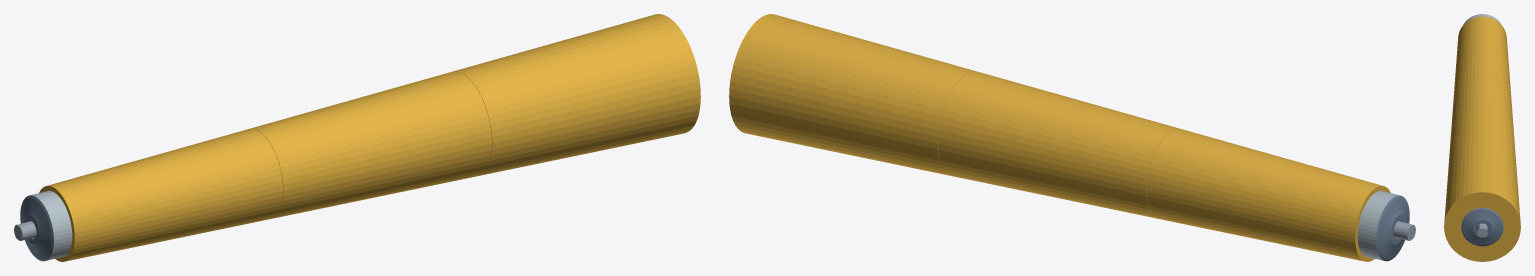
The model's file is rodillo_conico.glb.
3 views of the same model, side by side, from view 1: azimuth 30°, elevation 25°; view 2: azimuth 150°, elevation 25°; view 3: azimuth 270°, elevation 25° (orthographic). The views are drawn at different scales.
Visible parts, largest first — view 1: CÓNICO · Camisa cónica 3/3 Ø76.86→Ø87.49 × 169 (pared 4, bar, CÓNICO · Camisa cónica 2/3 Ø66.23→Ø76.86 × 169 (pared 4, bar, CÓNICO · Camisa cónica 1/3 Ø55.6→Ø66.23 × 169 (pared 4, barr, CÓNICO · Tapa portarodamiento Ø44/Ø32 × 14.5 (cónico, izq), CÓNICO · Tubo SCH40 NPS 1-1/2 pulg Ø48.26×3.68 × 522 (cónico; view 2: CÓNICO · Camisa cónica 3/3 Ø76.86→Ø87.49 × 169 (pared 4, bar, CÓNICO · Camisa cónica 2/3 Ø66.23→Ø76.86 × 169 (pared 4, bar, CÓNICO · Camisa cónica 1/3 Ø55.6→Ø66.23 × 169 (pared 4, barr, CÓNICO · Tapa portarodamiento Ø44/Ø32 × 14.5 (cónico, izq), CÓNICO · Tubo SCH40 NPS 1-1/2 pulg Ø48.26×3.68 × 522 (cónico; view 3: CÓNICO · Camisa cónica 3/3 Ø76.86→Ø87.49 × 169 (pared 4, bar, CÓNICO · Camisa cónica 2/3 Ø66.23→Ø76.86 × 169 (pared 4, bar, CÓNICO · Camisa cónica 1/3 Ø55.6→Ø66.23 × 169 (pared 4, barr, CÓNICO · Tapa portarodamiento Ø44/Ø32 × 14.5 (cónico, der), CÓNICO · Tubo SCH40 NPS 1-1/2 pulg Ø48.26×3.68 × 522 (cónico, CÓNICO · Eje pasante Ø12 g6 × 553 con 2 caras planas e/c 11 .
Part boxes in pixels (<box>): CÓNICO · Camisa cónica 3/3 Ø76.86→Ø87.49 × 169 (pared 4, bar: <box>453,14,700,175</box>; CÓNICO · Camisa cónica 2/3 Ø66.23→Ø76.86 × 169 (pared 4, bar: <box>249,71,491,218</box>; CÓNICO · Camisa cónica 1/3 Ø55.6→Ø66.23 × 169 (pared 4, barr: <box>39,128,283,261</box>; CÓNICO · Tapa portarodamiento Ø44/Ø32 × 14.5 (cónico, izq): <box>20,195,53,261</box>; CÓNICO · Tubo SCH40 NPS 1-1/2 pulg Ø48.26×3.68 × 522 (cónico: <box>20,190,72,261</box>; CÓNICO · Camisa cónica 3/3 Ø76.86→Ø87.49 × 169 (pared 4, bar: <box>729,14,976,175</box>; CÓNICO · Camisa cónica 2/3 Ø66.23→Ø76.86 × 169 (pared 4, bar: <box>938,71,1180,218</box>; CÓNICO · Camisa cónica 1/3 Ø55.6→Ø66.23 × 169 (pared 4, barr: <box>1146,128,1390,261</box>; CÓNICO · Tapa portarodamiento Ø44/Ø32 × 14.5 (cónico, izq): <box>1376,195,1409,261</box>; CÓNICO · Tubo SCH40 NPS 1-1/2 pulg Ø48.26×3.68 × 522 (cónico: <box>1357,190,1409,261</box>; CÓNICO · Camisa cónica 3/3 Ø76.86→Ø87.49 × 169 (pared 4, bar: <box>1444,133,1520,261</box>; CÓNICO · Camisa cónica 2/3 Ø66.23→Ø76.86 × 169 (pared 4, bar: <box>1449,75,1515,159</box>; CÓNICO · Camisa cónica 1/3 Ø55.6→Ø66.23 × 169 (pared 4, barr: <box>1453,16,1511,96</box>; CÓNICO · Tapa portarodamiento Ø44/Ø32 × 14.5 (cónico, der): <box>1461,208,1503,246</box>; CÓNICO · Tubo SCH40 NPS 1-1/2 pulg Ø48.26×3.68 × 522 (cónico: <box>1461,14,1503,246</box>; CÓNICO · Eje pasante Ø12 g6 × 553 con 2 caras planas e/c 11 : <box>1477,223,1487,237</box>.
Size of the model in its own units: 553 by 87.48 by 87.48.
